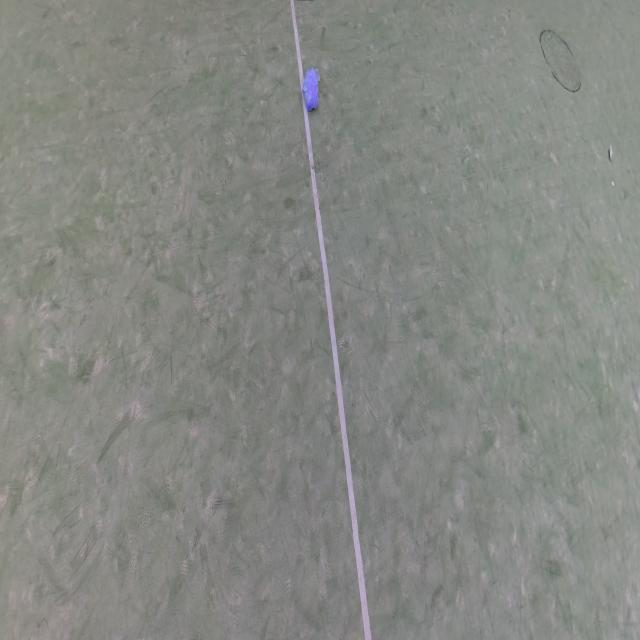rubbish: (302, 66, 321, 112), (609, 143, 613, 159), (611, 181, 614, 186)
